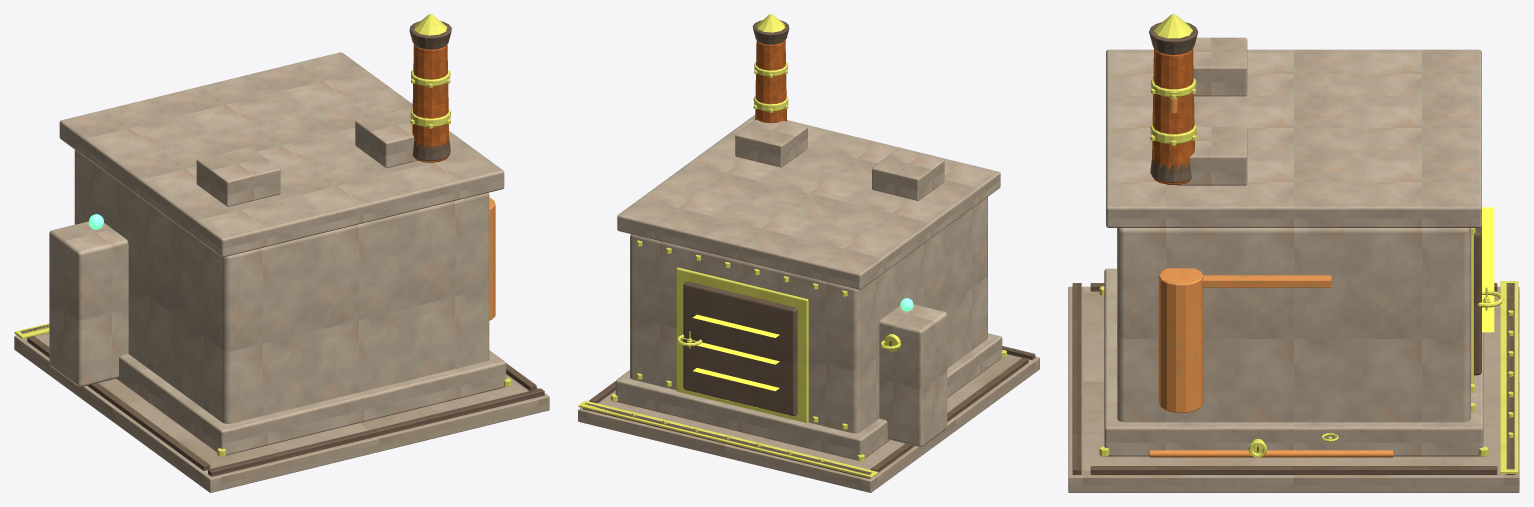
File: ff-electric-furnace.glb
The picture shows the model from 3 angles, left to right: view 1: azimuth 30°, elevation 25°; view 2: azimuth 150°, elevation 25°; view 3: azimuth 270°, elevation 25°; orthographic projection. The views are drawn at different scales.
Visible parts, largest first — view 1: Body.002, BaseFrame, Pad.004, PadLipN.004, Chimney.001, Bolt.005, PadPipe.004; view 2: BaseFrame, Body.002, PadLipN.004, Pad.004, Bolt.005, Chimney.001, GaugeBoss.003; view 3: BaseFrame, Body.002, Pad.004, PadPipe.004, PadLipN.004, Chimney.001, Bolt.005, GaugeBoss.003, GlowElement2.
Part boxes in pixels (x1,y1,x2,y2): Body.002: [49, 150, 489, 423]; BaseFrame: [59, 52, 506, 455]; Pad.004: [14, 333, 549, 492]; PadLipN.004: [20, 21, 544, 476]; Chimney.001: [412, 44, 449, 162]; Bolt.005: [217, 14, 511, 456]; PadPipe.004: [489, 197, 495, 320]; BaseFrame: [615, 115, 1002, 460]; Body.002: [630, 197, 987, 446]; PadLipN.004: [582, 20, 1035, 478]; Pad.004: [578, 354, 1039, 492]; Bolt.005: [611, 14, 1006, 462]; Chimney.001: [755, 40, 786, 123]; GaugeBoss.003: [578, 338, 877, 478]; BaseFrame: [1104, 37, 1483, 456]; Body.002: [1117, 228, 1470, 422]; Pad.004: [1068, 286, 1519, 492]; PadPipe.004: [1149, 97, 1393, 457]; PadLipN.004: [1072, 22, 1515, 474]; Chimney.001: [1152, 49, 1194, 184]; Bolt.005: [1099, 14, 1513, 456]; GaugeBoss.003: [1329, 281, 1518, 473]; GlowElement2: [1482, 207, 1494, 261].
Size of the model in its own units: 3.11 by 3.21 by 3.
Materials: 12 (9 with a texture image).
